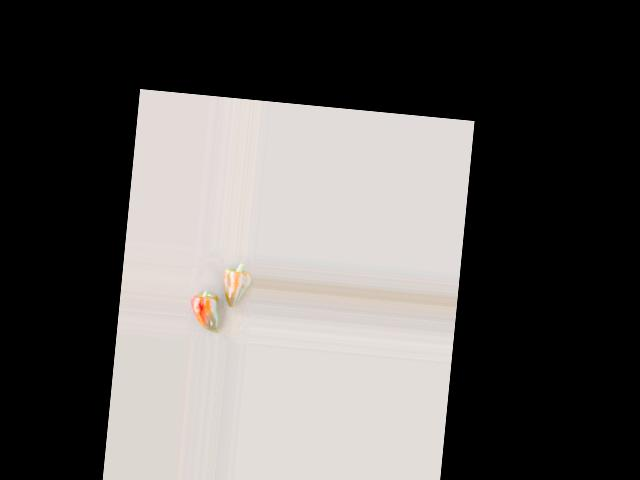bell_pepper: (186, 275, 225, 335)
